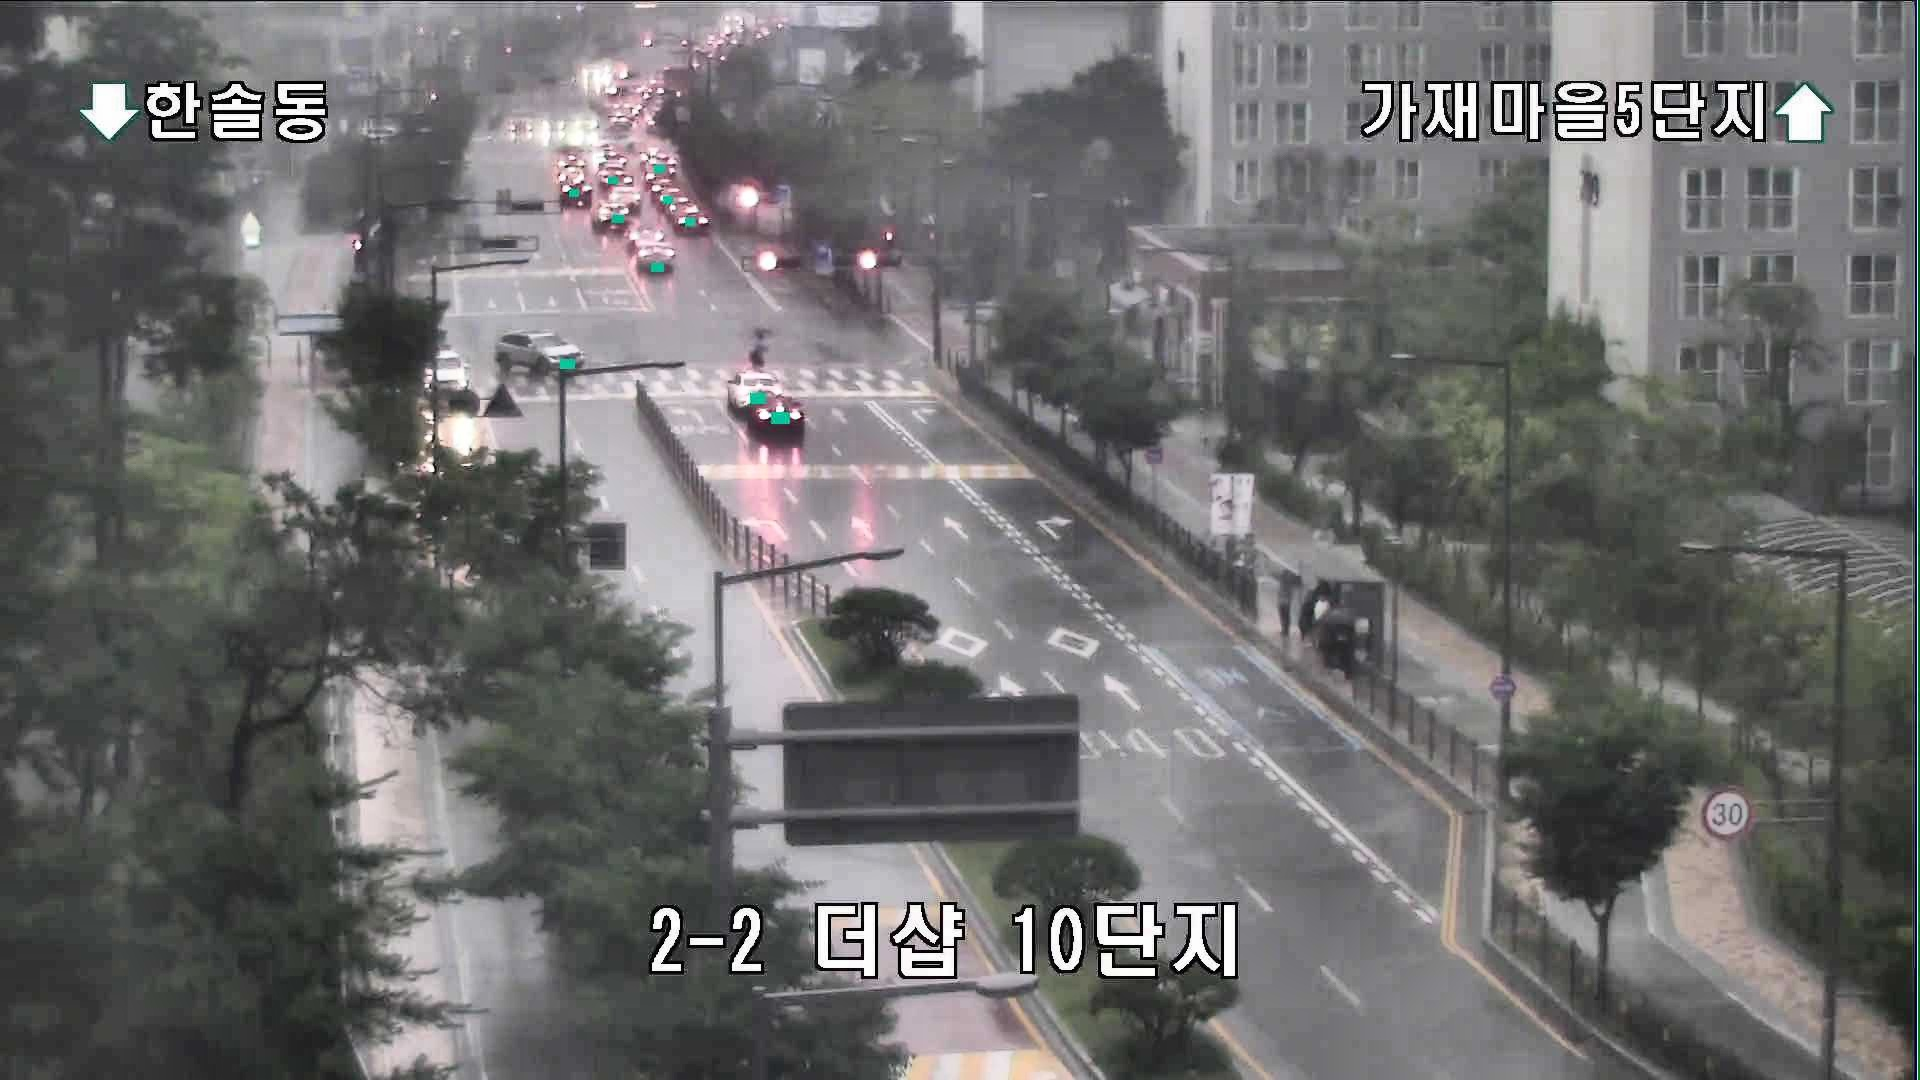um_crosswalk: (744, 323, 774, 371)
um_sidewalk: (1270, 564, 1298, 638)
